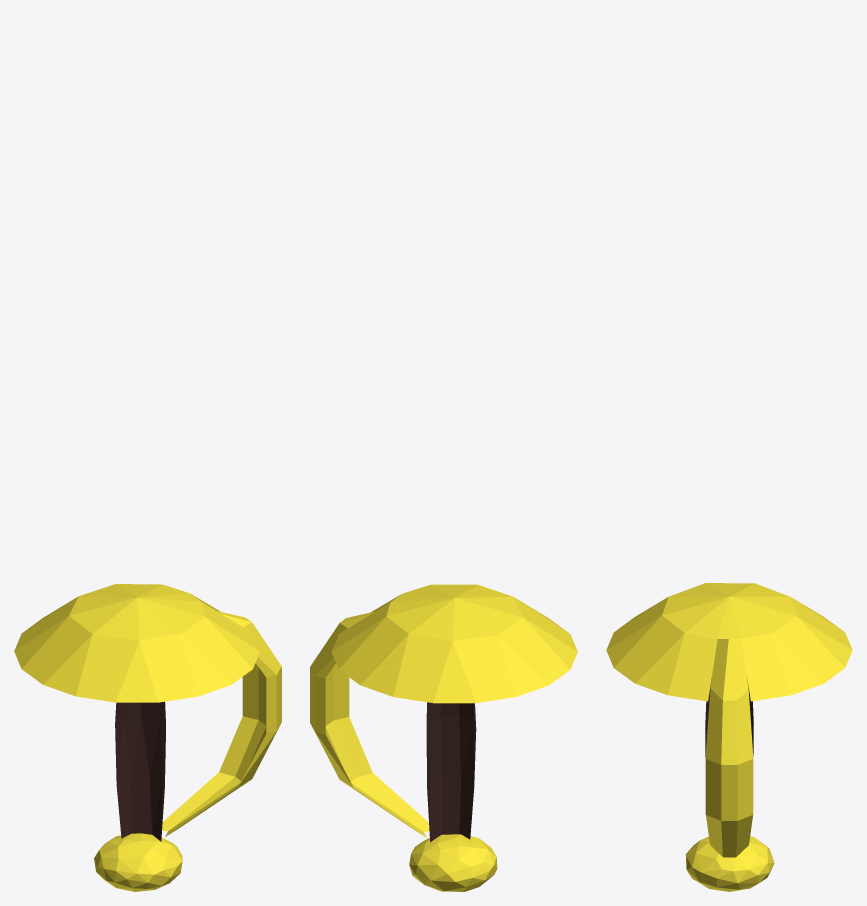
Rendered from Espada_inimigoblend1.fbx.
The picture shows the model from 3 angles, left to right: view 1: azimuth 30°, elevation 25°; view 2: azimuth 150°, elevation 25°; view 3: azimuth 270°, elevation 25°; orthographic projection.
Parts seen in each view (by area): view 1: Sphere.003; view 2: Sphere.003; view 3: Sphere.003.
Boxes of the visible parts, x1,y1,x2,y2 form: Sphere.003: (14,584,281,891); Sphere.003: (310,584,577,891); Sphere.003: (606,583,852,891).
Bounding box in the file's own units: 637 × 2159 × 554.
1 material, 1 textured.
